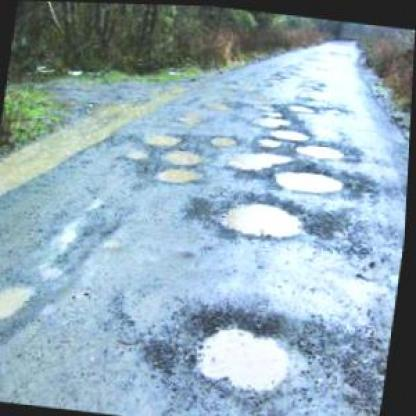pothole: (182, 300, 300, 396), (218, 193, 308, 240), (272, 164, 348, 192), (0, 275, 40, 323), (153, 161, 205, 186), (294, 137, 347, 158), (266, 122, 314, 141), (164, 144, 202, 165), (142, 128, 182, 146), (251, 111, 291, 126), (208, 130, 241, 146), (124, 143, 152, 159), (286, 98, 316, 112)
